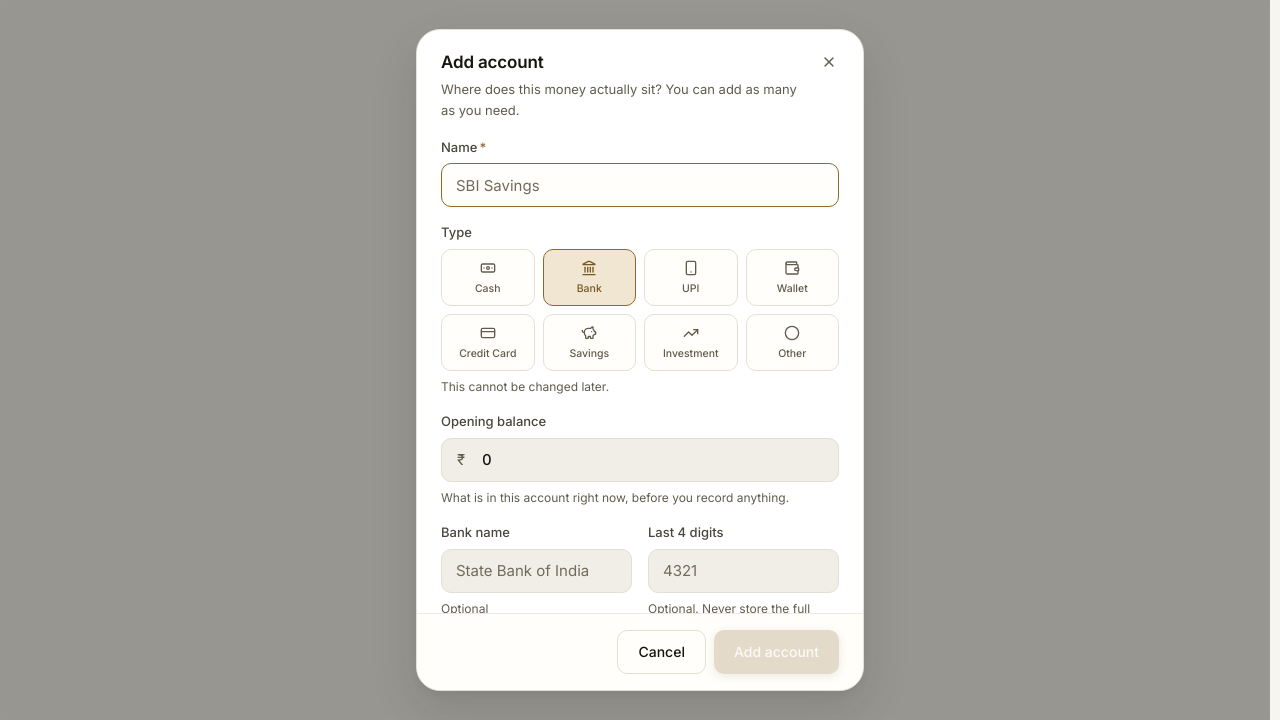
Test: creating an account while offline (§Phase 15 follow-up) › online, it saves normally with the usual confirmation and queues nothing
Type "Travel wallet" into the field labelled "Name*". click: point(640, 185)
box: [441, 163, 839, 207]
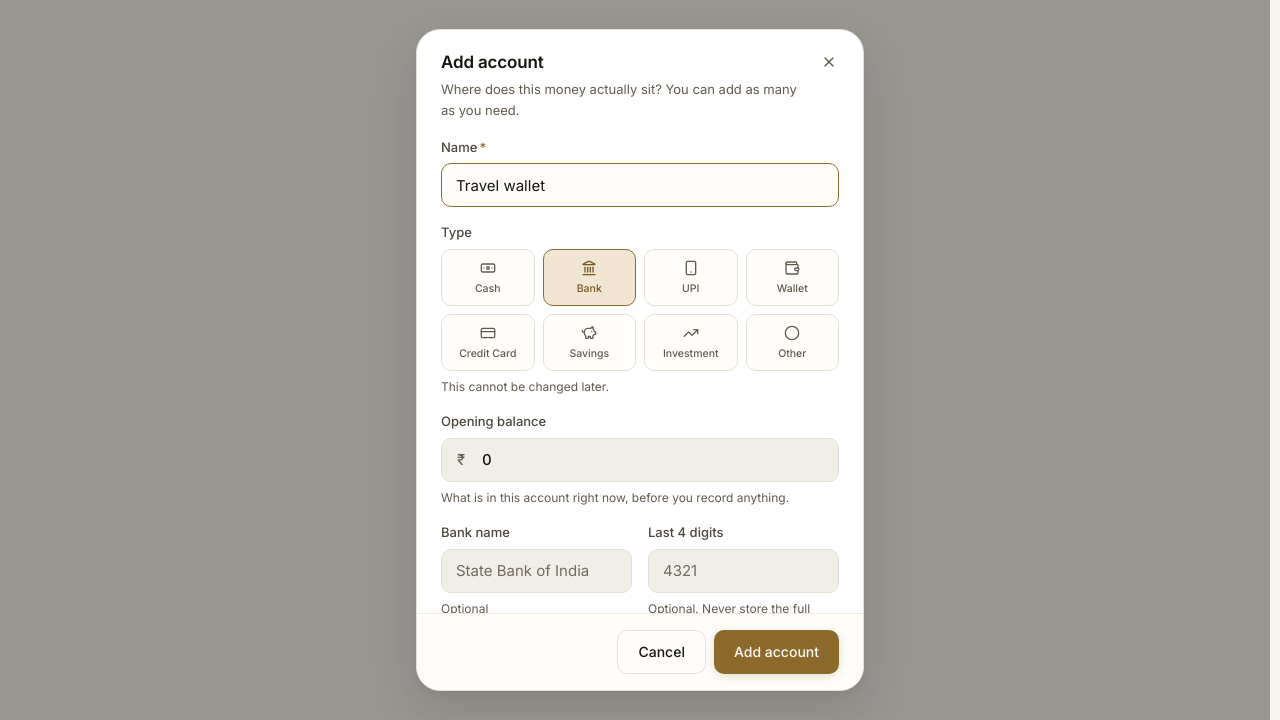
Click the button "Add account". click: point(776, 652)
box: [714, 630, 839, 674]
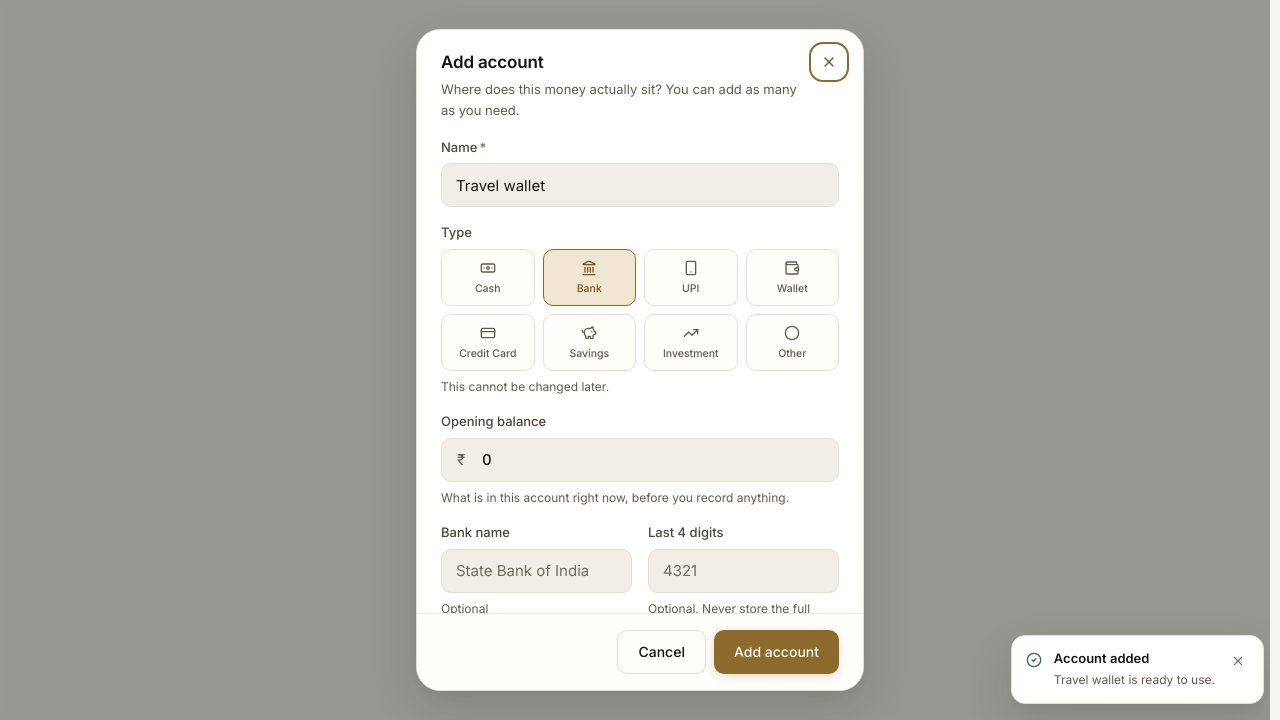
expect the text "Account added" is shown: met, box [1054, 650, 1149, 666]
